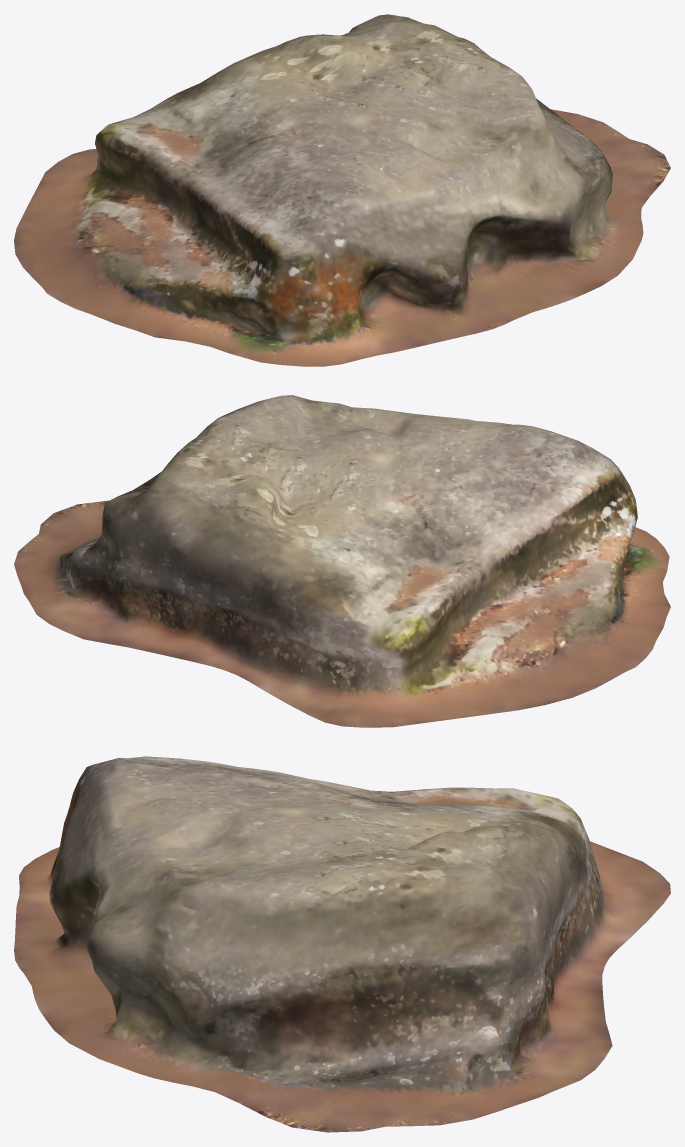
File: Rock_03.FBX
3 renders of one model, top to bottom at view 1: azimuth 30°, elevation 25°; view 2: azimuth 150°, elevation 25°; view 3: azimuth 270°, elevation 25°, orthographic. The views are drawn at different scales.
Parts seen in each view (by area): view 1: Rock03_LOD0; view 2: Rock03_LOD0; view 3: Rock03_LOD0.
Part boxes in pixels (x1=…): Rock03_LOD0: x1=14, y1=14, x2=670, y2=366; Rock03_LOD0: x1=14, y1=395, x2=670, y2=727; Rock03_LOD0: x1=14, y1=756, x2=670, y2=1132.
Size of what is drawn, in the model's own units: 4.95 by 4.04 by 1.06.
Materials: 1 (1 with a texture image).
